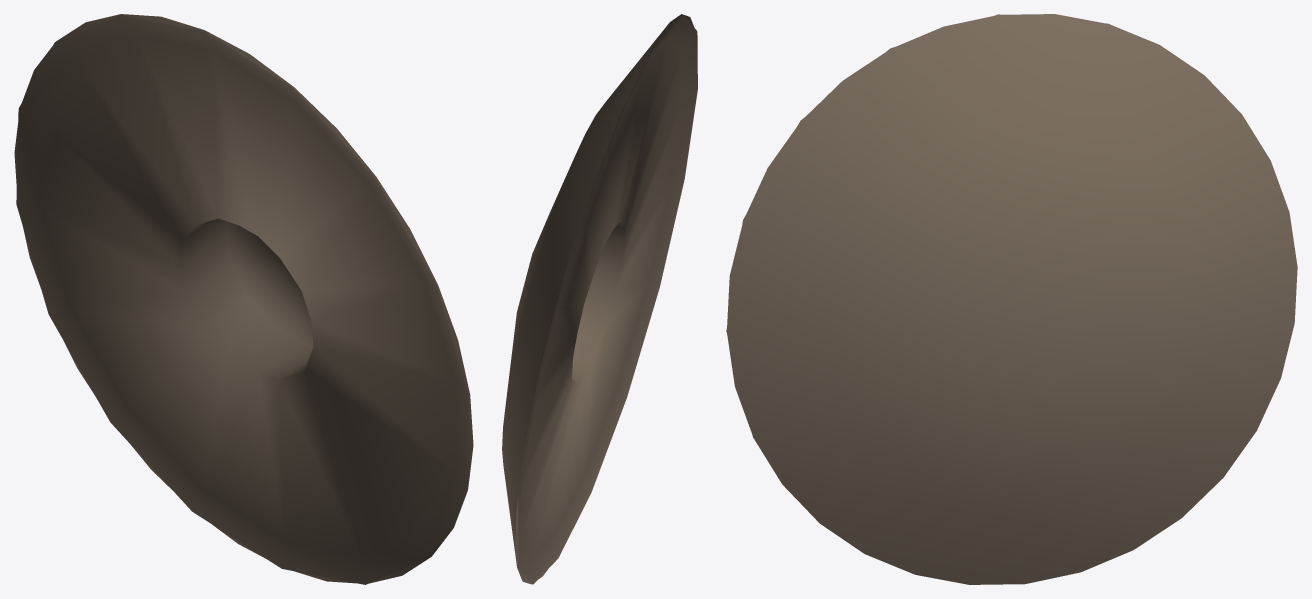
Rendered from xion_shield_round_arm_left.dae.
The picture shows the model from 3 angles, left to right: view 1: azimuth 30°, elevation 25°; view 2: azimuth 150°, elevation 25°; view 3: azimuth 270°, elevation 25°; orthographic projection. The views are drawn at different scales.
Visible parts, largest first — view 1: Plano_001_001; view 2: Plano_001_001; view 3: Plano_001_001.
Part boxes in pixels (box(x1,y1,x2,y2)): Plano_001_001: box(14, 14, 473, 584); Plano_001_001: box(502, 14, 697, 584); Plano_001_001: box(726, 14, 1297, 584).
Size of the model in its own units: 0.4 by 1.17 by 1.19.
